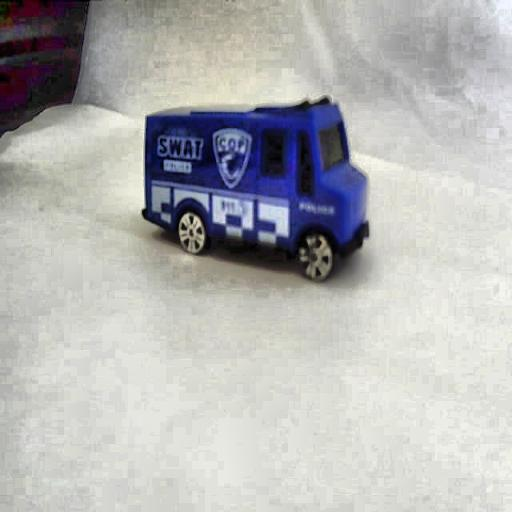police car: (140, 101, 370, 284)
